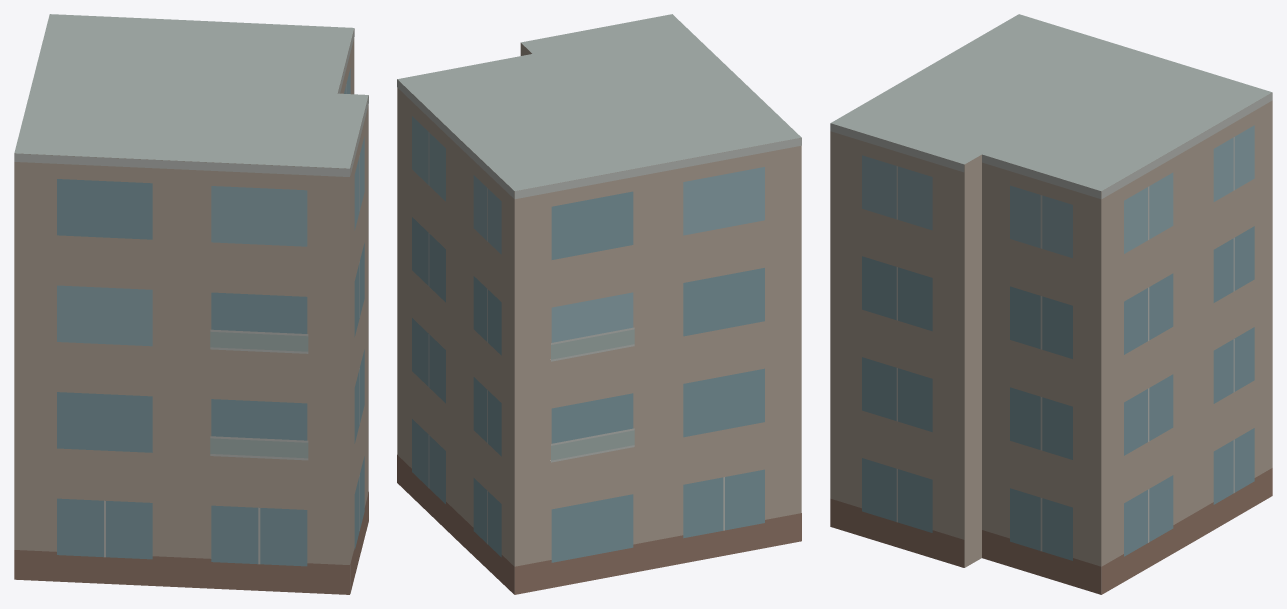
File: residential-32a251e9-5785-4a6c-8aae-1c3c037641c6.glb
3 views of the same model, side by side, from view 1: azimuth 30°, elevation 25°; view 2: azimuth 150°, elevation 25°; view 3: azimuth 270°, elevation 25° (orthographic). The views are drawn at different scales.
Visible parts, largest first — view 1: residential-32a251e9-5785-4a6c-8aae-1c3c037641c6.tmp; view 2: residential-32a251e9-5785-4a6c-8aae-1c3c037641c6.tmp; view 3: residential-32a251e9-5785-4a6c-8aae-1c3c037641c6.tmp.
Boxes of the visible parts, left/top/right/bottom form: residential-32a251e9-5785-4a6c-8aae-1c3c037641c6.tmp: left=14, top=14, right=368, bottom=594; residential-32a251e9-5785-4a6c-8aae-1c3c037641c6.tmp: left=397, top=14, right=801, bottom=594; residential-32a251e9-5785-4a6c-8aae-1c3c037641c6.tmp: left=830, top=14, right=1272, bottom=594.
Size of the model in its own units: 11.5 by 12.2 by 12.12.
